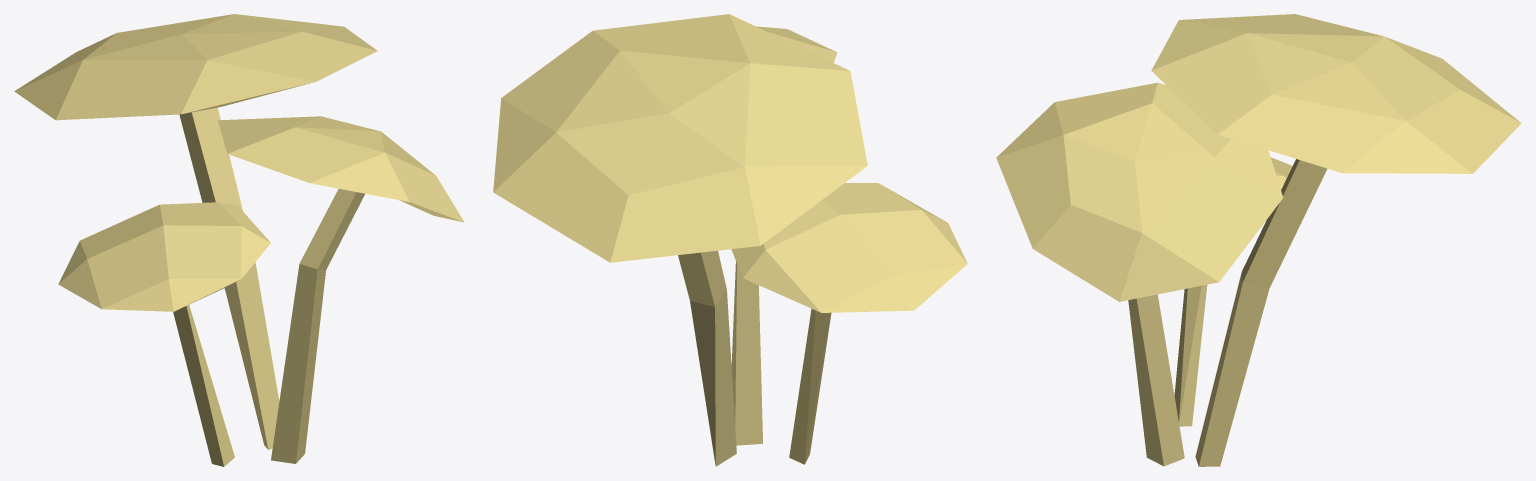
File: Mushroom_h_05.fbx
3 views of the same model, side by side, from view 1: azimuth 30°, elevation 25°; view 2: azimuth 150°, elevation 25°; view 3: azimuth 270°, elevation 25° (orthographic). The views are drawn at different scales.
Parts seen in each view (by area): view 1: Mushroom_h_05; view 2: Mushroom_h_05; view 3: Mushroom_h_05.
Boxes of the visible parts, x1,y1,x2,y2 form: Mushroom_h_05: [14, 14, 464, 466]; Mushroom_h_05: [493, 14, 967, 466]; Mushroom_h_05: [996, 14, 1521, 466].
Size of the model in its own units: 22.47 by 24.27 by 28.16.
